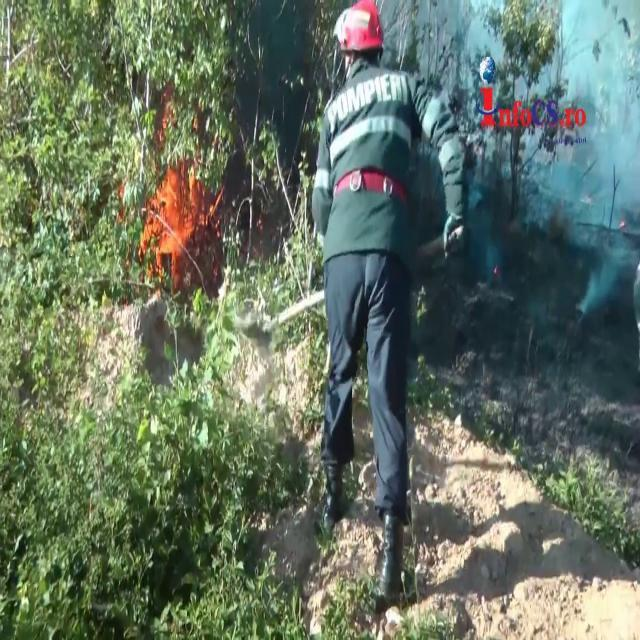Fire: (139, 147, 204, 283)
